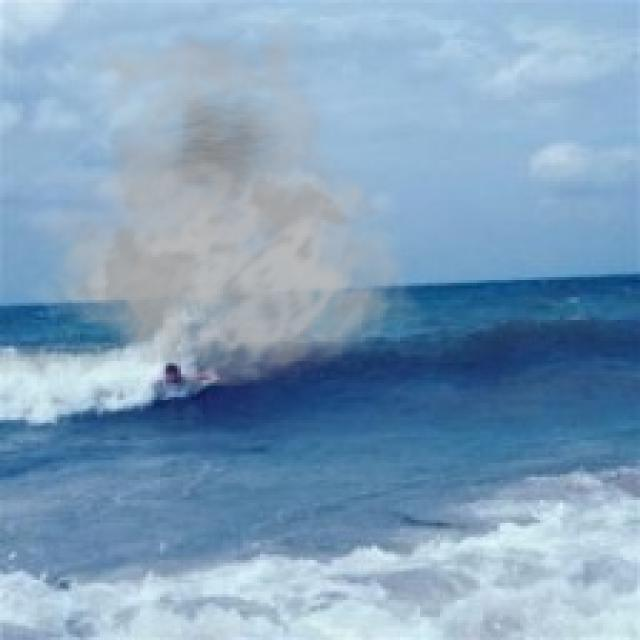Smoke: (20, 2, 420, 388)
